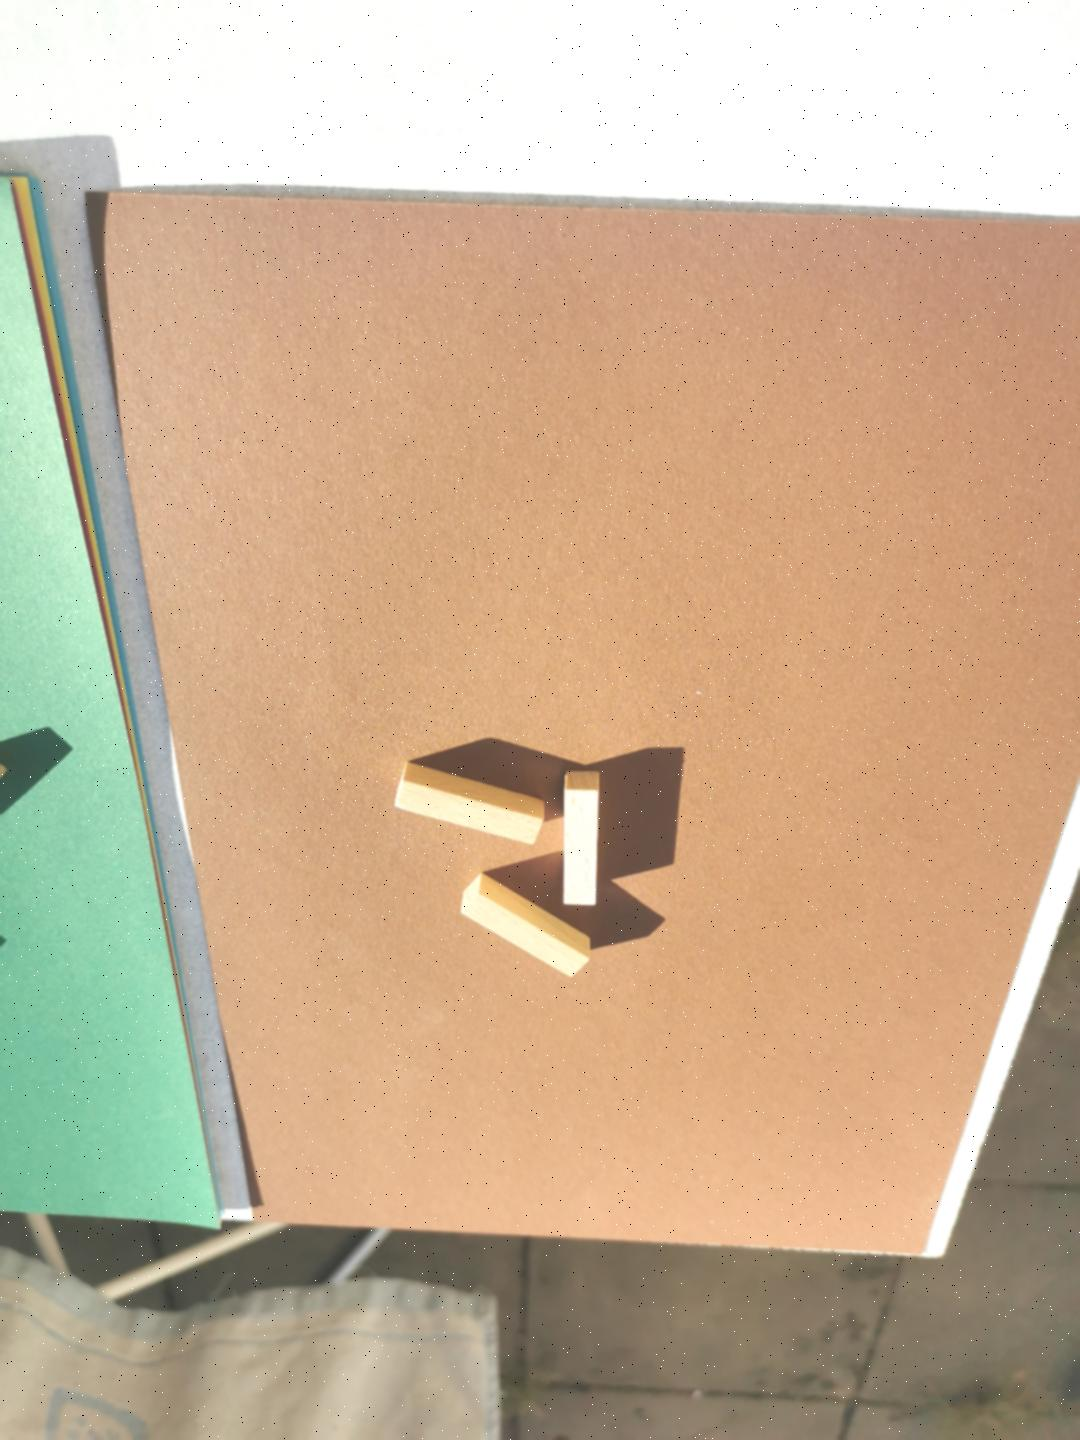jenga: (462, 874, 591, 976), (394, 762, 546, 844), (563, 771, 599, 906)
